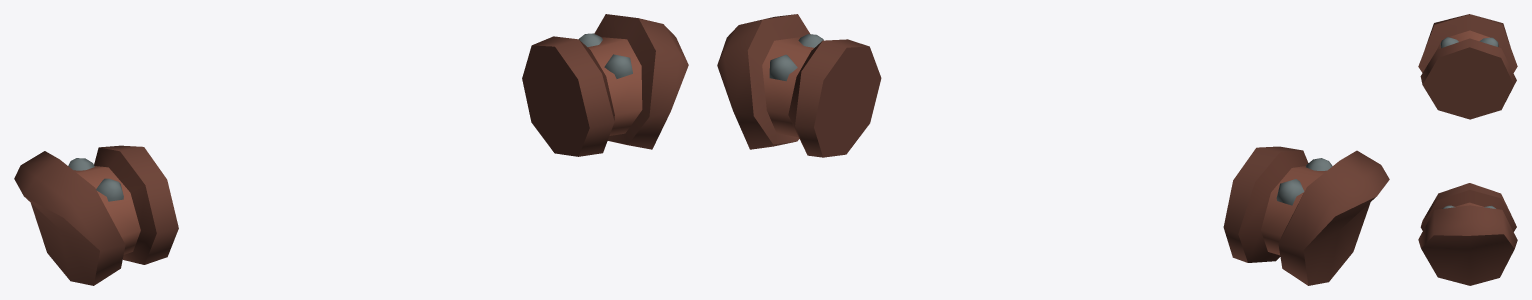
The model's file is Glove_30.fbx.
The picture shows the model from 3 angles, left to right: view 1: azimuth 30°, elevation 25°; view 2: azimuth 150°, elevation 25°; view 3: azimuth 270°, elevation 25°; orthographic projection. The views are drawn at different scales.
Visible parts, largest first — view 1: Glove_30; view 2: Glove_30; view 3: Glove_30.
Boxes of the visible parts, x1,y1,x2,y2 form: Glove_30: (14,14,688,285); Glove_30: (717,14,1389,285); Glove_30: (1418,14,1517,285).
Bounding box in the file's own units: 121 × 22.03 × 23.58.
